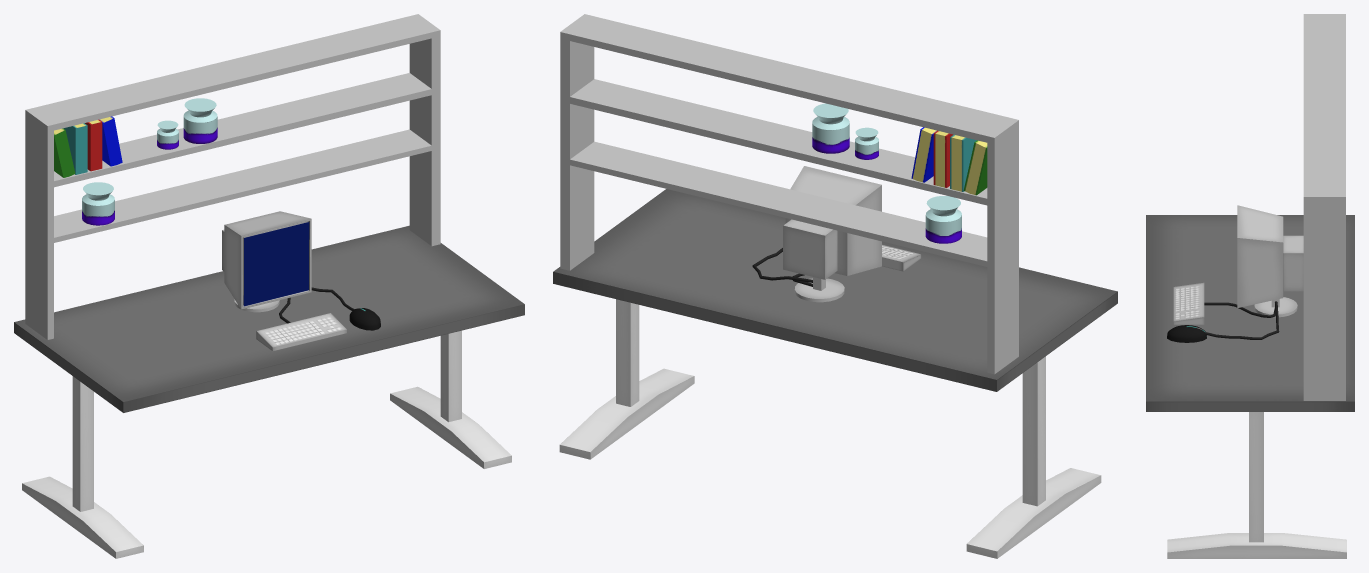
Rendered from DeskModel.fbx.
3 renders of one model, left to right at view 1: azimuth 30°, elevation 25°; view 2: azimuth 150°, elevation 25°; view 3: azimuth 270°, elevation 25°, orthographic. The views are drawn at different scales.
Parts seen in each view (by area): view 1: pCube30; view 2: pCube30; view 3: pCube30.
Boxes of the visible parts, left/top/right/bottom form: pCube30: left=14, top=14, right=524, bottom=558; pCube30: left=553, top=14, right=1117, bottom=558; pCube30: left=1146, top=14, right=1354, bottom=558.
Size of the model in its own units: 5.69 by 5.15 by 2.69.
1 material, 1 textured.
